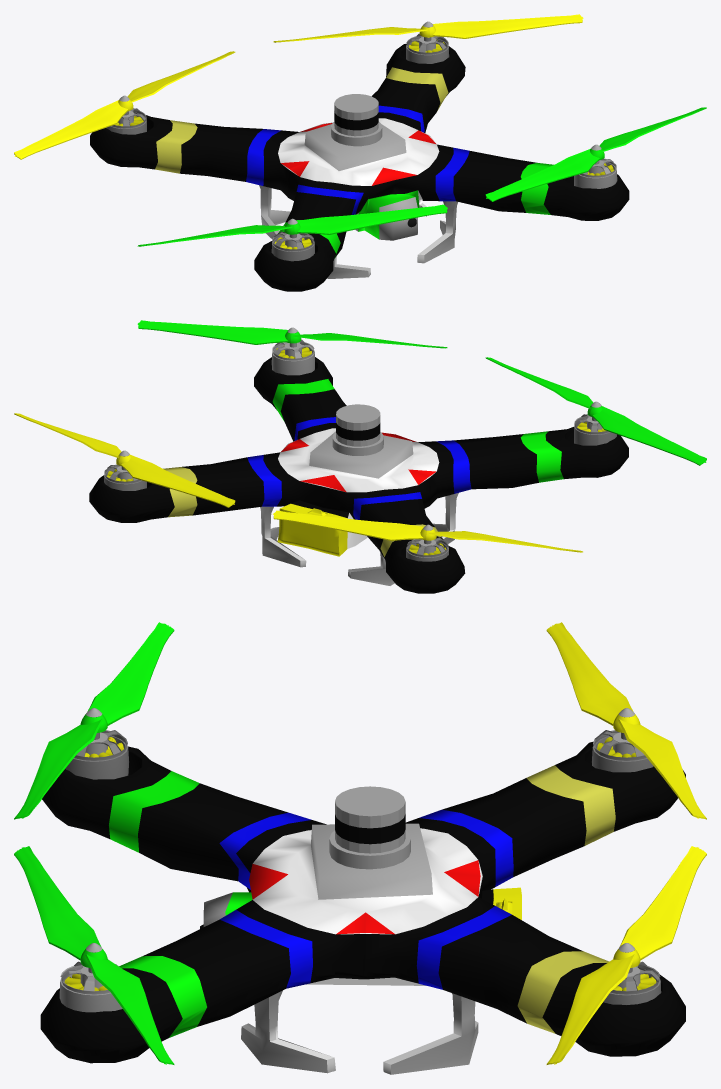
File: uav1_1.fbx
The picture shows the model from 3 angles, top to bottom: view 1: azimuth 30°, elevation 25°; view 2: azimuth 150°, elevation 25°; view 3: azimuth 270°, elevation 25°; orthographic projection. The views are drawn at different scales.
Parts seen in each view (by area): view 1: polySurface1, polySurface8 (×4), pCylinder10 (×4), laser; view 2: polySurface1, polySurface8 (×4), pCylinder10 (×4), laser, polySurface4; view 3: polySurface1, polySurface8 (×4), pCylinder10 (×4), laser, polySurface4.
Boxes of the visible parts, box(x1,y1,x2,y2) form: polySurface1: box(90, 43, 629, 291); polySurface8 (×4): box(14, 14, 706, 246); pCylinder10 (×4): box(106, 33, 617, 261); laser: box(331, 94, 382, 146); polySurface1: box(89, 357, 628, 593); polySurface8 (×4): box(14, 320, 706, 552); pCylinder10 (×4): box(104, 339, 616, 561); laser: box(332, 404, 383, 455); polySurface4: box(277, 503, 347, 556); polySurface1: box(40, 742, 685, 1074); polySurface8 (×4): box(14, 622, 706, 1064); pCylinder10 (×4): box(59, 730, 661, 1012); laser: box(329, 786, 410, 869); polySurface4: box(493, 887, 521, 919).
Bounding box in the file's own units: 38.19 × 8.87 × 25.44.
